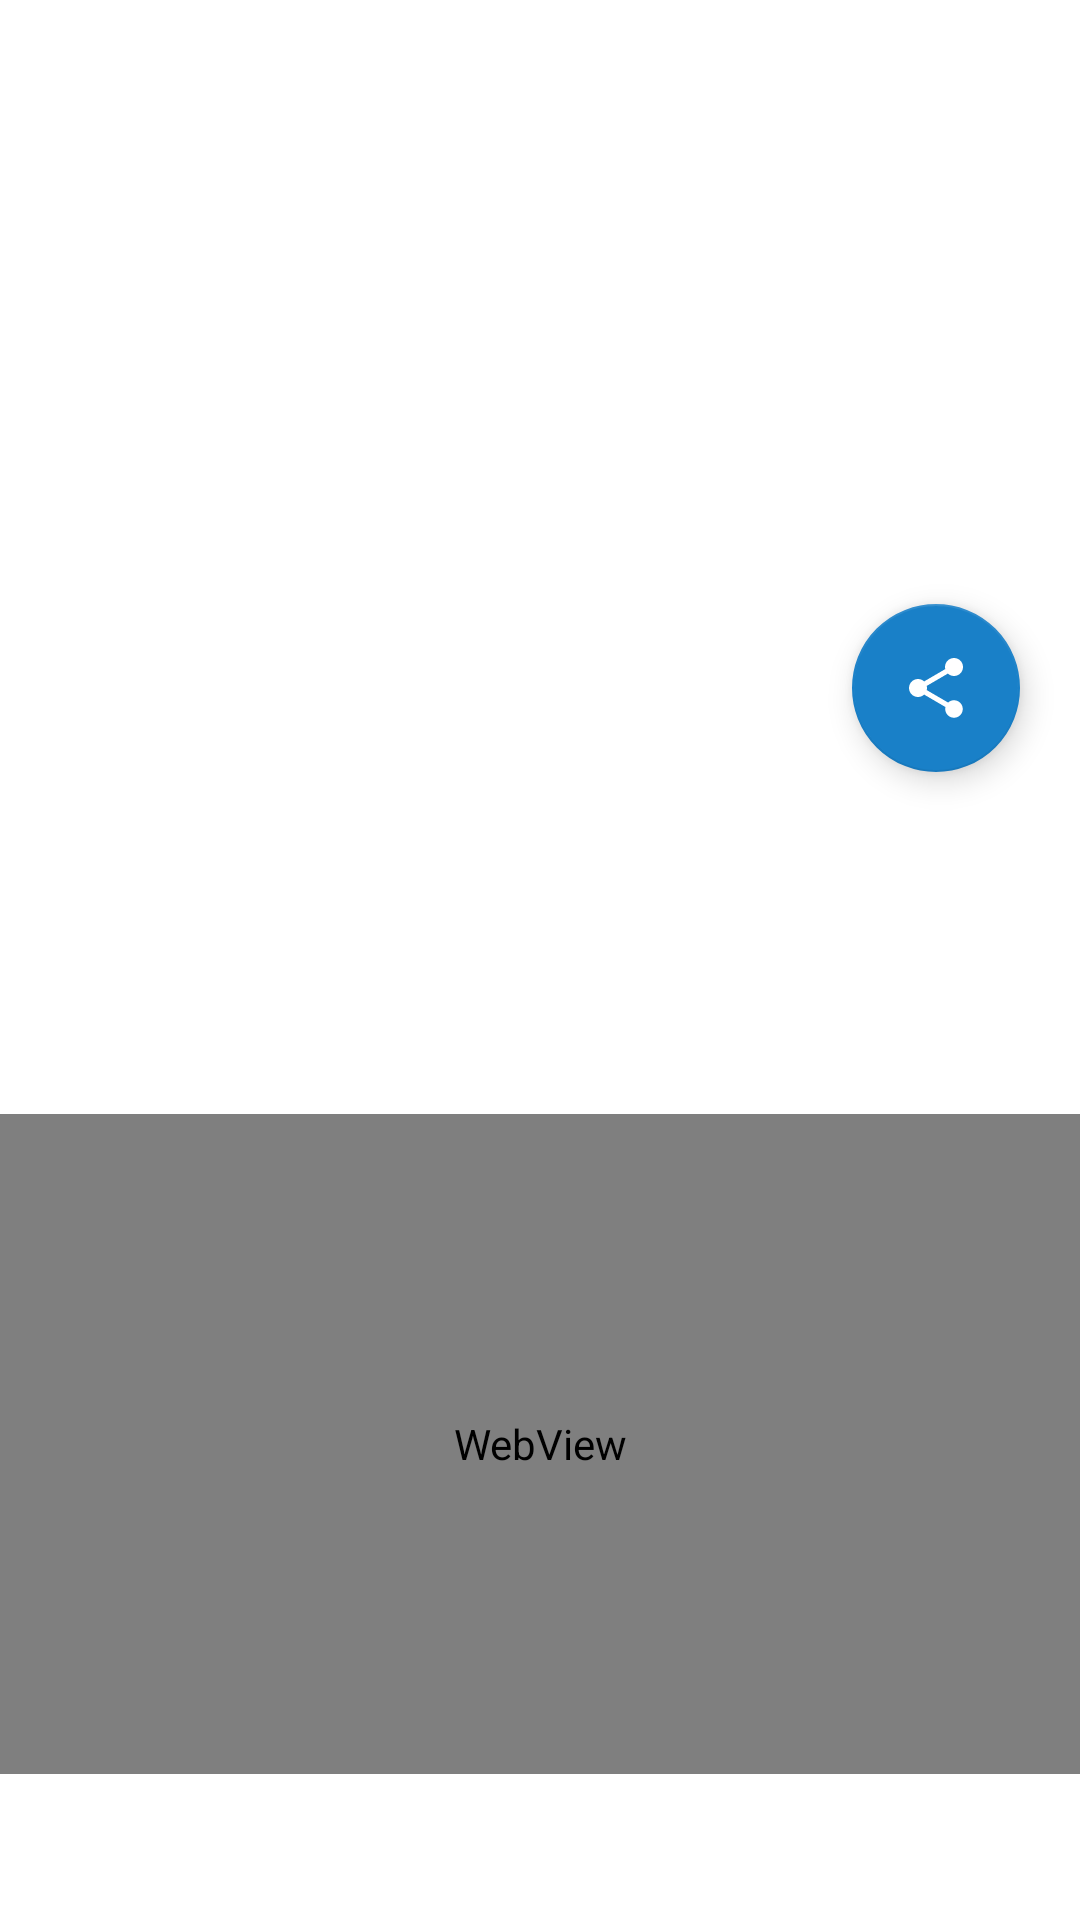

Where to tap for icons on this 1080 × 1920 app screen, as (x=x, y=y):
share: (x=936, y=688)
